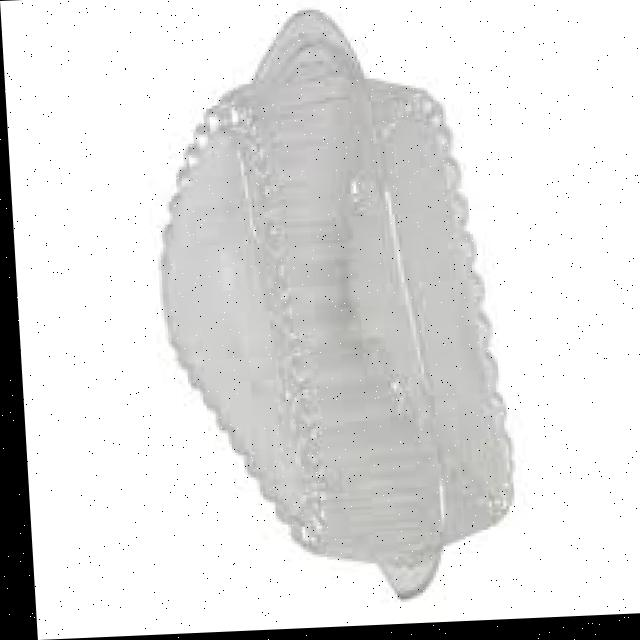disposable: (128, 0, 556, 602)
